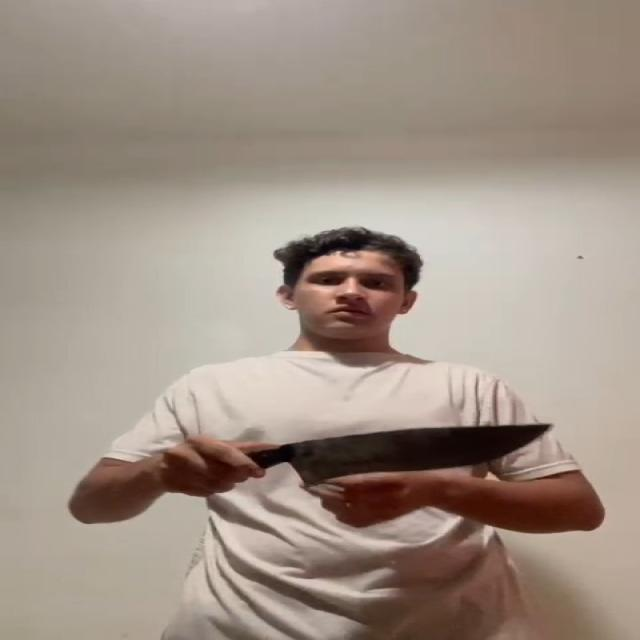knife: (296, 426, 554, 480)
